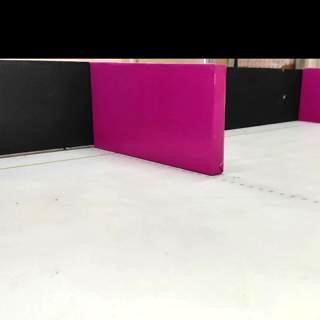xparking: (92, 66, 223, 160), (304, 69, 320, 122)
